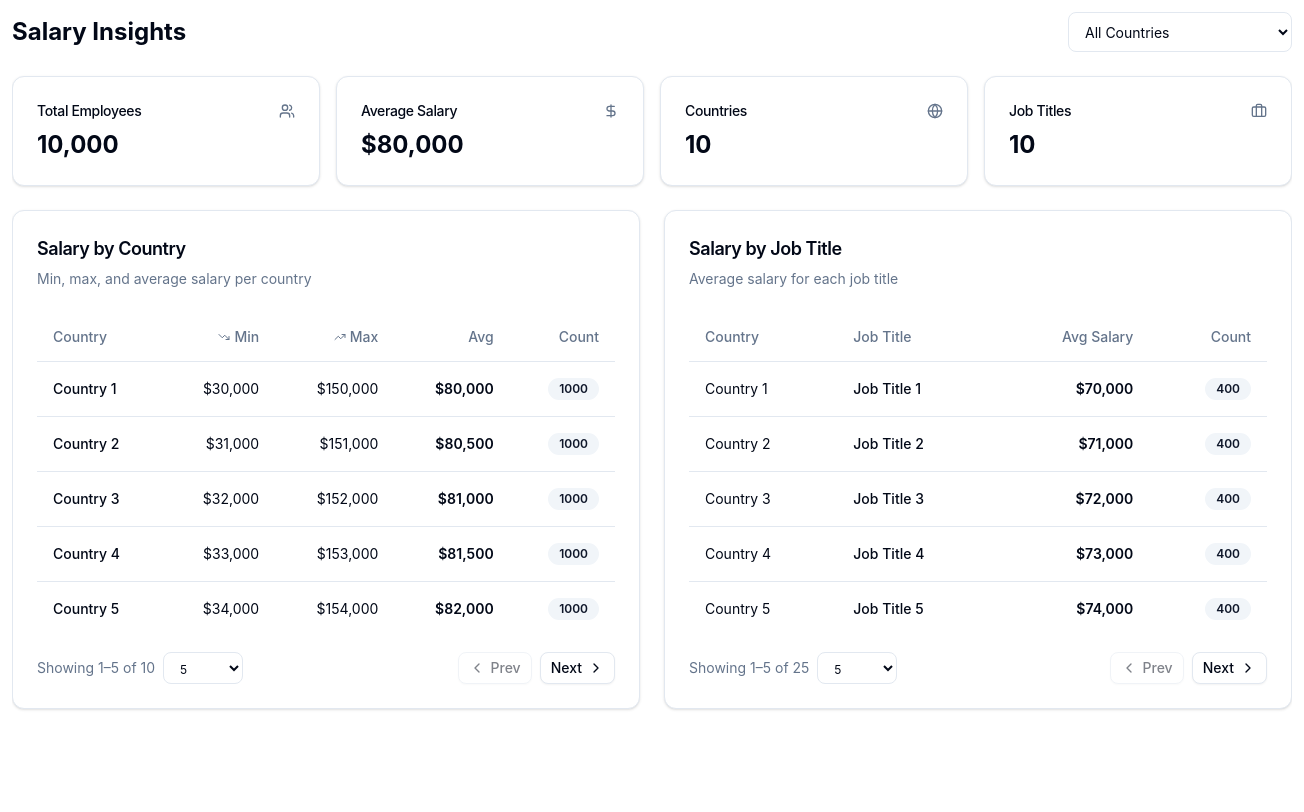
SalaryInsights › should reset page to 1 when country filter changes
Expected: the text "Showing 1–5 of 25" is shown, left=689, top=658, right=809, bottom=678
// Navigate to page 2 in job title section
Click the button "Next" in the row of "25" at (1229, 668), box left=1192, top=652, right=1267, bottom=684
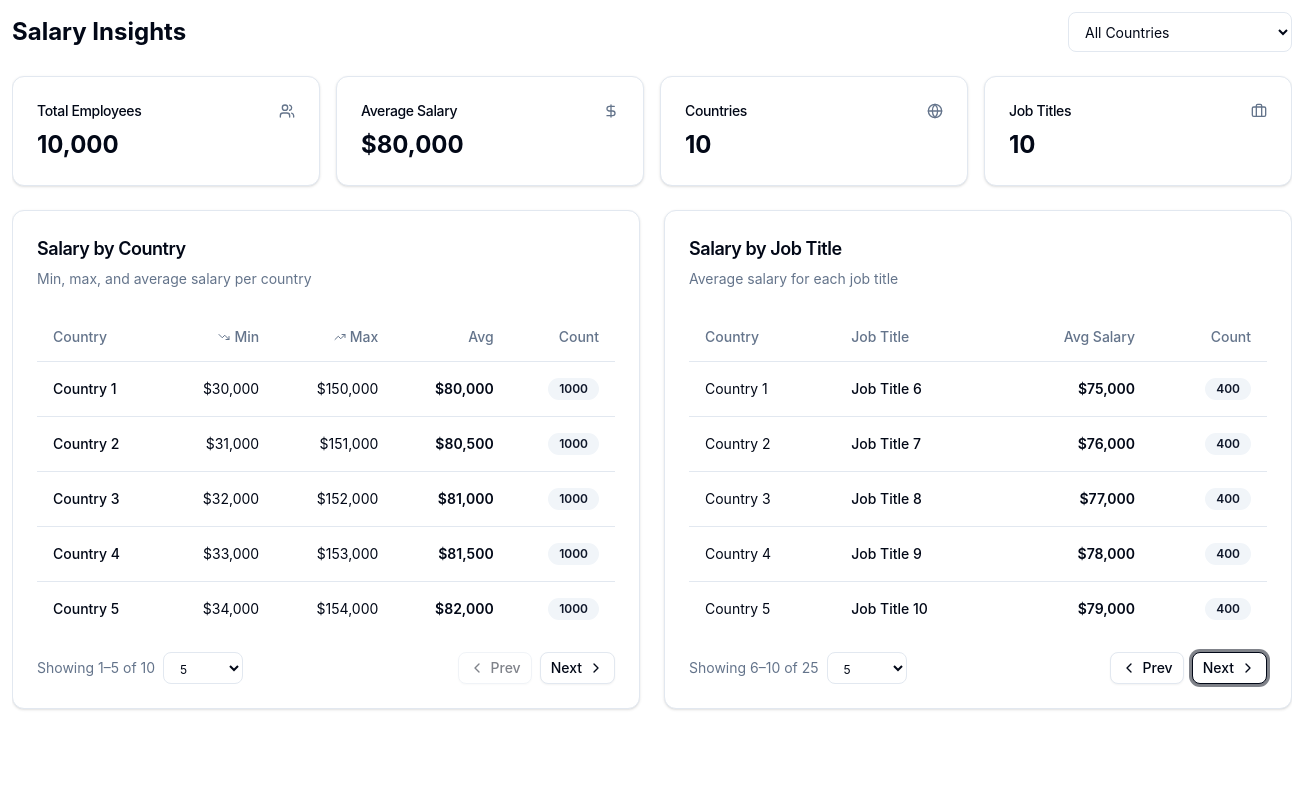
Result: the text "Showing 6–10 of 25" is shown at left=689, top=658, right=819, bottom=678
// Now filter by Country 1 — should reset to page 1
Select "Country 1" in the dropdown in the row of "Salary Insights" at (1180, 32), box left=1068, top=12, right=1292, bottom=52
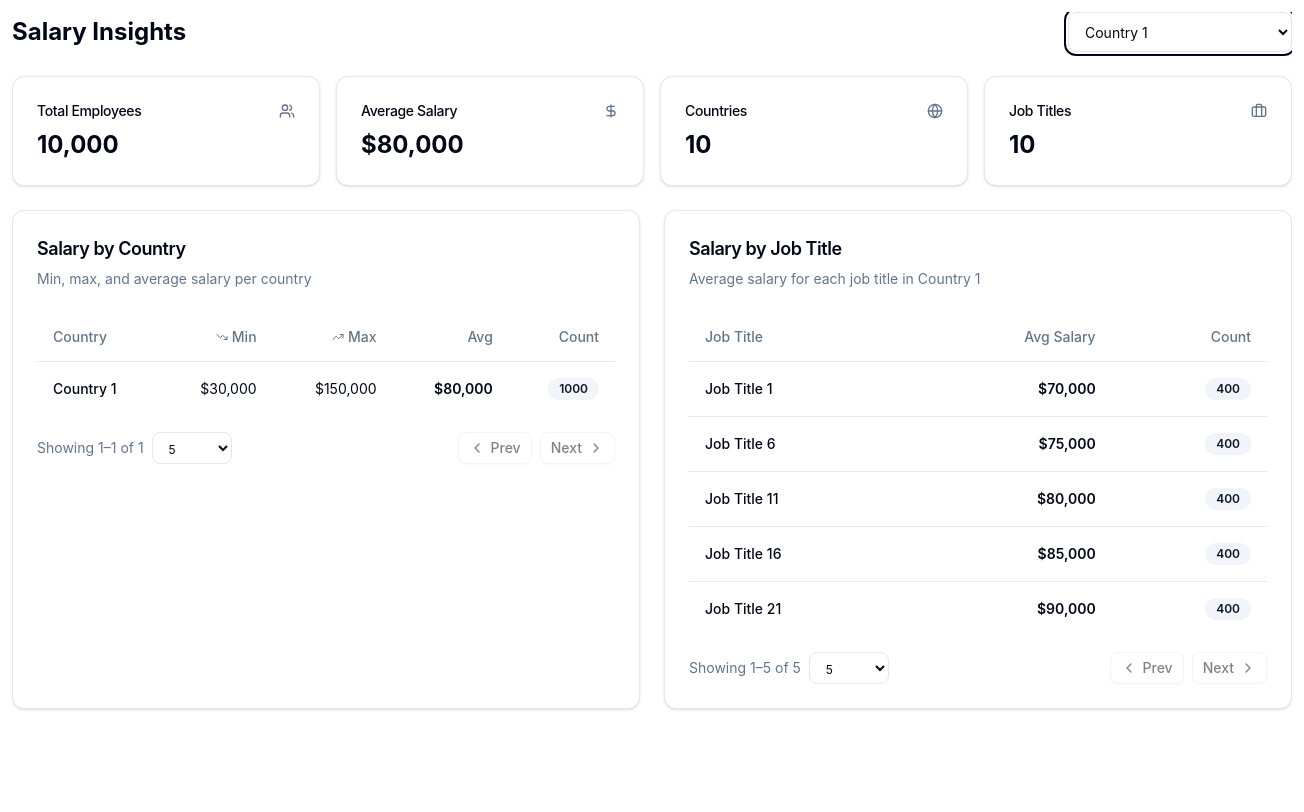
Result: the text "Showing 1–5 of 5" is shown at left=689, top=658, right=801, bottom=678
